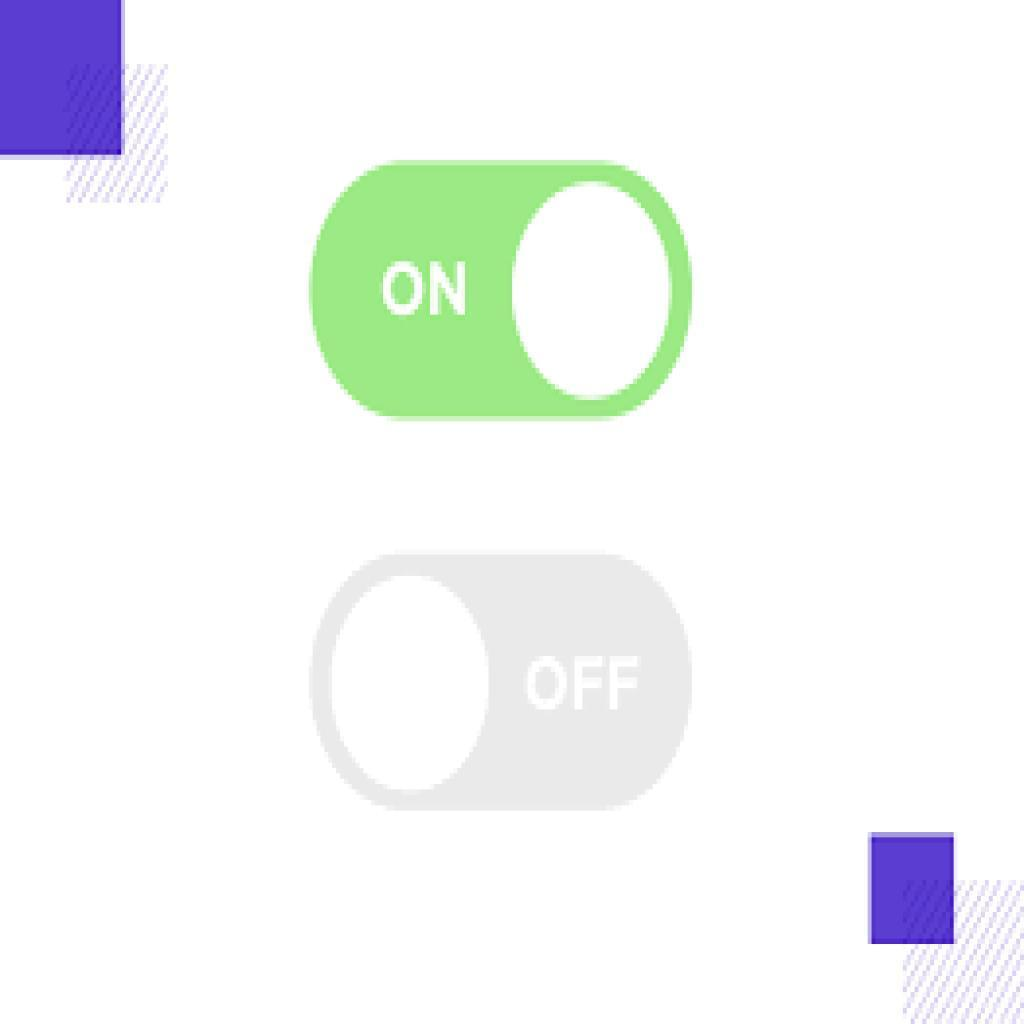switch: (308, 158, 697, 431), (304, 552, 692, 813)
